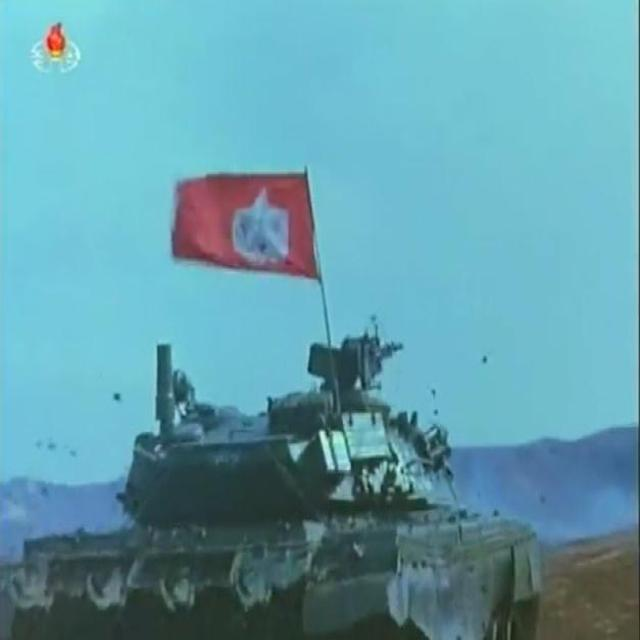north tank: (0, 316, 561, 640)
